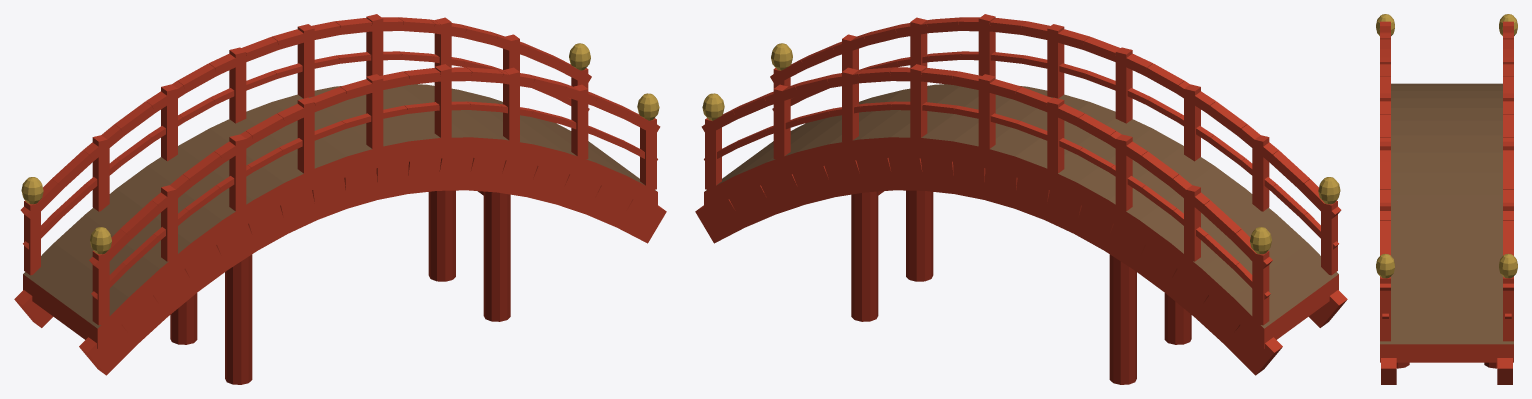
Rendered from Shrine_Bridge.fbx.
The picture shows the model from 3 angles, left to right: view 1: azimuth 30°, elevation 25°; view 2: azimuth 150°, elevation 25°; view 3: azimuth 270°, elevation 25°; orthographic projection. The views are drawn at different scales.
Parts seen in each view (by area): view 1: Shrine_Bridge; view 2: Shrine_Bridge; view 3: Shrine_Bridge.
Part boxes in pixels (bbox=[...]): Shrine_Bridge: bbox=[14, 14, 666, 384]; Shrine_Bridge: bbox=[695, 14, 1347, 384]; Shrine_Bridge: bbox=[1376, 14, 1517, 384].
Bounding box in the file's own units: 26.88 × 12.2 × 6.36.
